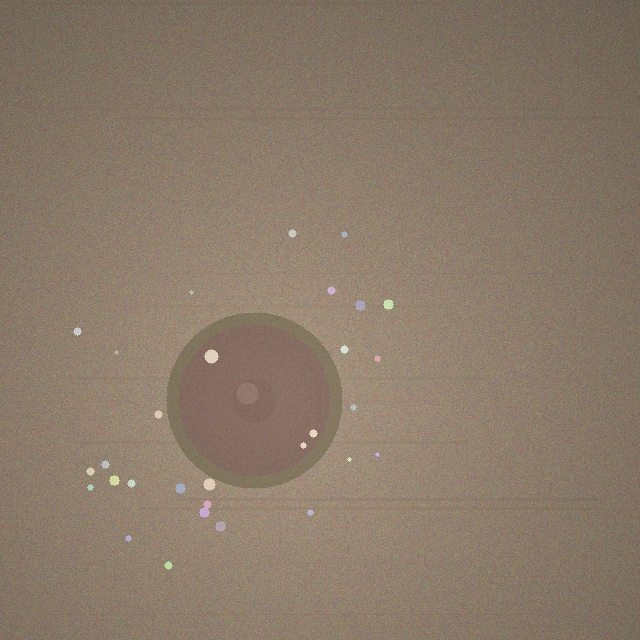overburn: (166, 312, 342, 488)
